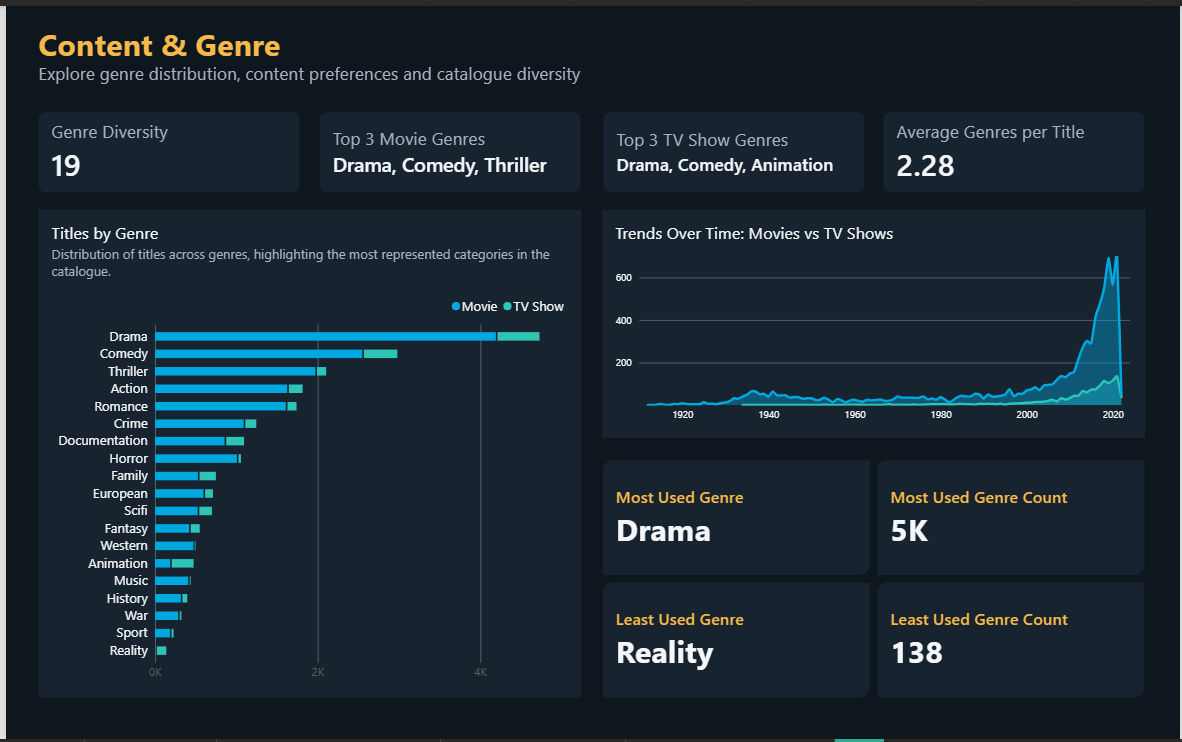

The dashboard page shown, as its layout file describes it:
{"tool":"powerbi","page":{"name":"Content & Genre","canvas":[1440,900],"ordinal":3},"visuals":[{"type":"textbox","box":[40,22,463.3,60],"z":0},{"type":"textbox","box":[40,68,948,86],"z":1000},{"type":"cardVisual","fields":{"Data":["Count(Genre Analysis.genres)"]},"box":[40,130,320,98],"z":2000},{"type":"cardVisual","fields":{"Data":["Genre Analysis.Top 3 Movie Genres"]},"box":[385.7,130,320,98],"z":3000},{"type":"cardVisual","fields":{"Data":["Genre Analysis.Top 3 TV Show Genres"]},"box":[732.9,130,320,98],"z":4000},{"type":"cardVisual","fields":{"Data":["Genre Analysis.Average Genres per Title"]},"box":[1077.1,130,320,98],"z":5000},{"type":"barChart","title":"Titles by Genre","fields":{"Category":["Genre Analysis.genres"],"Series":["Genre Analysis.contentType"],"Y":["Count(Genre Analysis.title)"]},"box":[40,250,666,598],"z":6000},{"type":"lineChart","title":"Trends Over Time: Movies vs TV Shows","fields":{"Category":["titles.release_year"],"Y":["Genre Analysis.TV Shows by Genre Over Time","Genre Analysis.Movies by Genre Over Time"]},"box":[732,250,666,280],"z":7000},{"type":"cardVisual","fields":{"Data":["Genre Analysis.Most Used Genre","Genre Analysis.Most Used Genre Count","Genre Analysis.Least Used Genre","Genre Analysis.Least Used Genre Count"]},"box":[732,556,666,292],"z":8000}]}

Visuals, with their boxes in screenshot pixels (x1, y1, x2, y2), scaled from the page's 1440x900 canvas onto the 1182x742 screenshot:
textbox: l=33, t=18, r=413, b=68
textbox: l=33, t=56, r=811, b=127
cardVisual - Count(Genre Analysis.genres): l=33, t=107, r=296, b=188
cardVisual - Genre Analysis.Top 3 Movie Genres: l=317, t=107, r=579, b=188
cardVisual - Genre Analysis.Top 3 TV Show Genres: l=602, t=107, r=864, b=188
cardVisual - Genre Analysis.Average Genres per Title: l=884, t=107, r=1147, b=188
"Titles by Genre" barChart: l=33, t=206, r=580, b=699
"Trends Over Time: Movies vs TV Shows" lineChart: l=601, t=206, r=1148, b=437
cardVisual - Genre Analysis.Most Used Genre x Genre Analysis.Most Used Genre Count: l=601, t=458, r=1148, b=699
